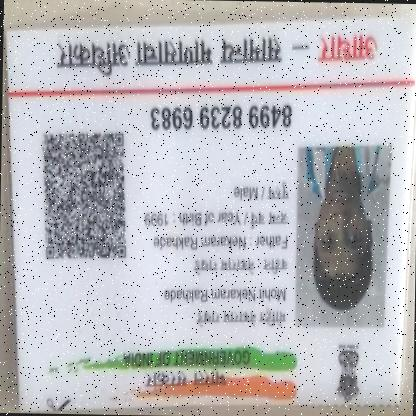aadhaar_card: (0, 11, 415, 415)
